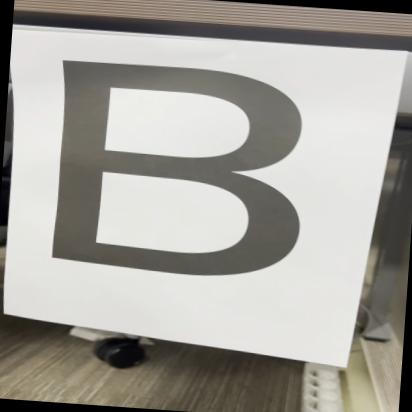seat: (27, 39, 324, 298)
